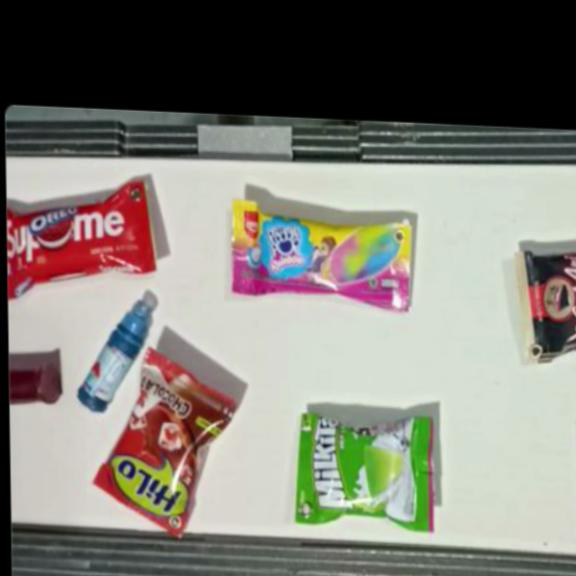Plastik: (90, 342, 240, 539), (231, 200, 412, 312), (7, 172, 156, 305), (291, 409, 435, 532), (76, 297, 154, 417), (521, 249, 576, 367), (8, 359, 63, 406)
